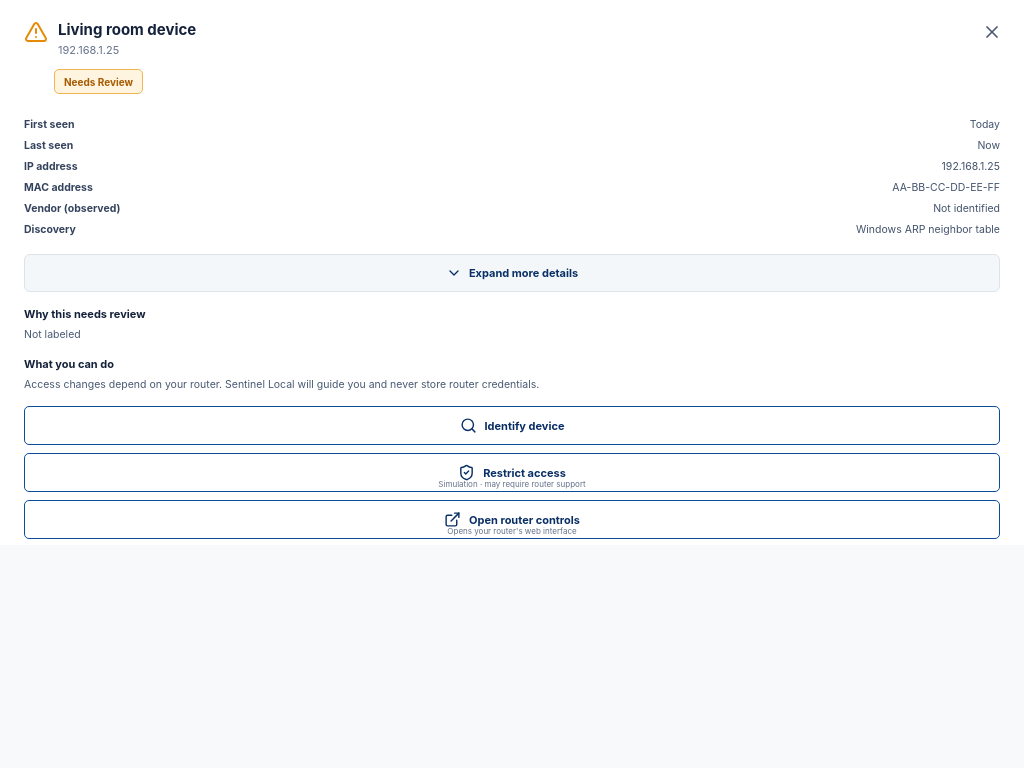
Test: Sentinel Local 0.3 changes › expands device evidence from the overview inspector
Click the button "Expand more details" at (512, 273), box [24,254,1000,292]
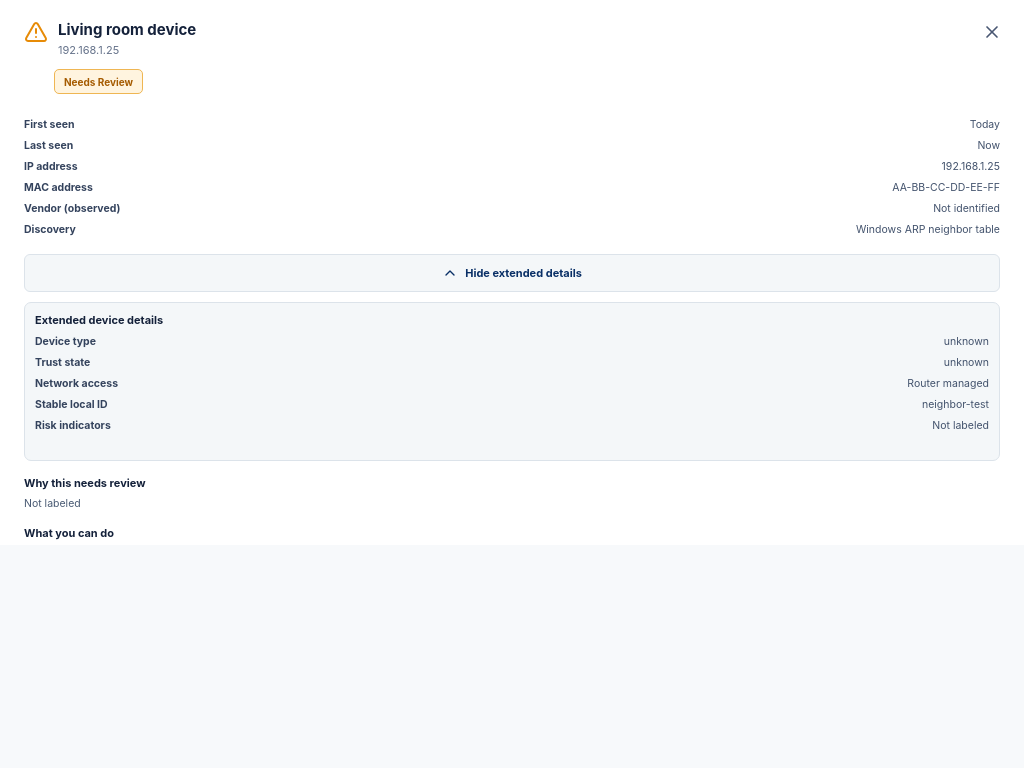
Expected: the heading "Extended device details" is shown, [35,313,163,327]
Expected: the text "neighbor-test" is shown, [922,398,989,411]
